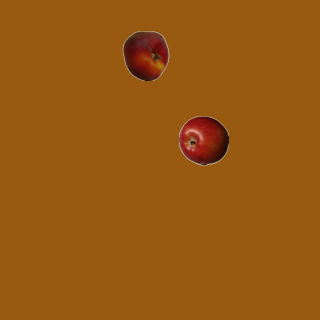Apple Braeburn: (178, 115, 228, 165)
Nectarine Flat: (120, 30, 170, 80)
